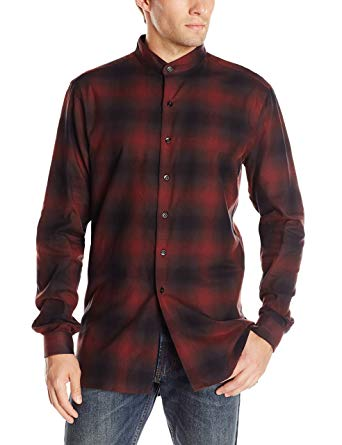Shirt: (32, 37, 301, 388)
